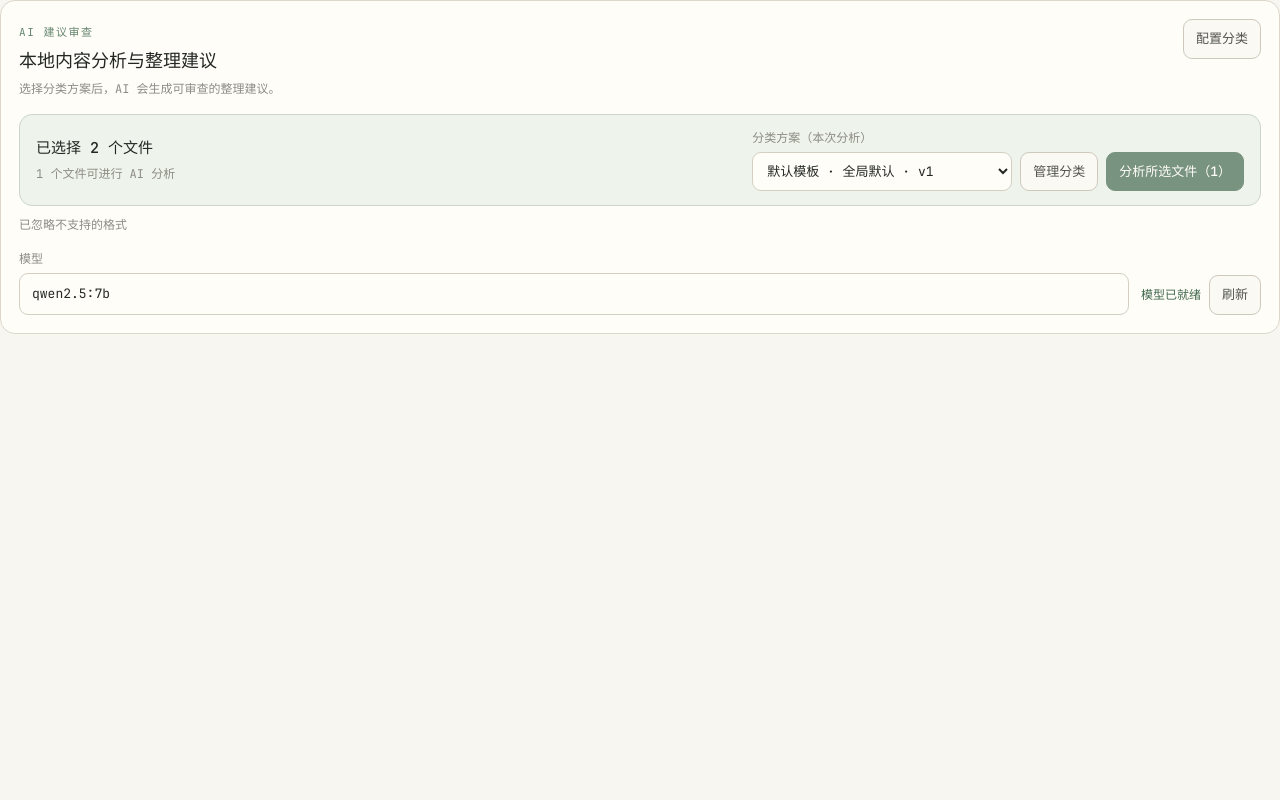
Test case: analyzes only supported selected files and displays completed suggestions
Expected: the text "模型已就绪" is shown, [1141, 286, 1201, 304]
Click the button "分析所选文件（1）".
click(1175, 171)  # box [1106, 152, 1244, 191]
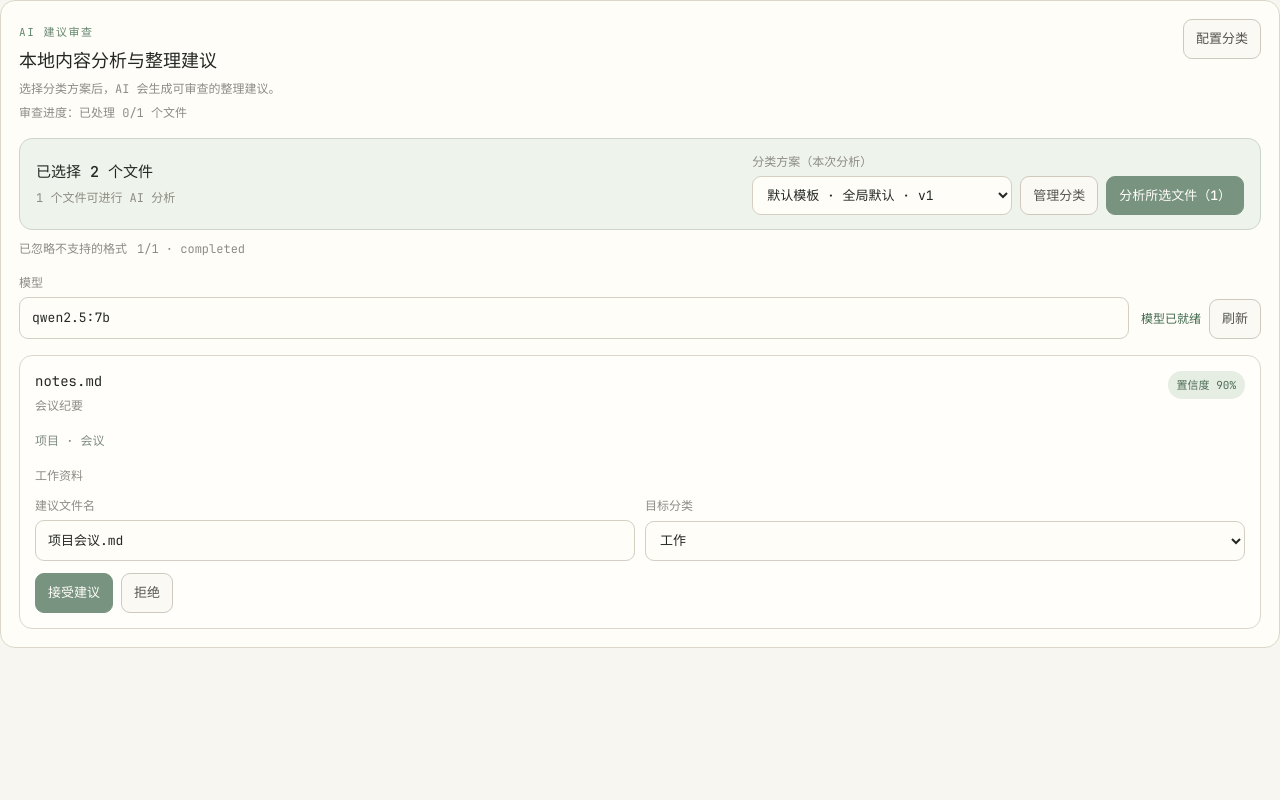
Result: the text "会议纪要" is shown at [35, 398, 83, 414]
Result: the text "项目 · 会议" is shown at [35, 432, 105, 448]
Result: the text "置信度 90%" is shown at [1168, 370, 1245, 399]
